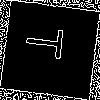T: (24, 25, 73, 61)
